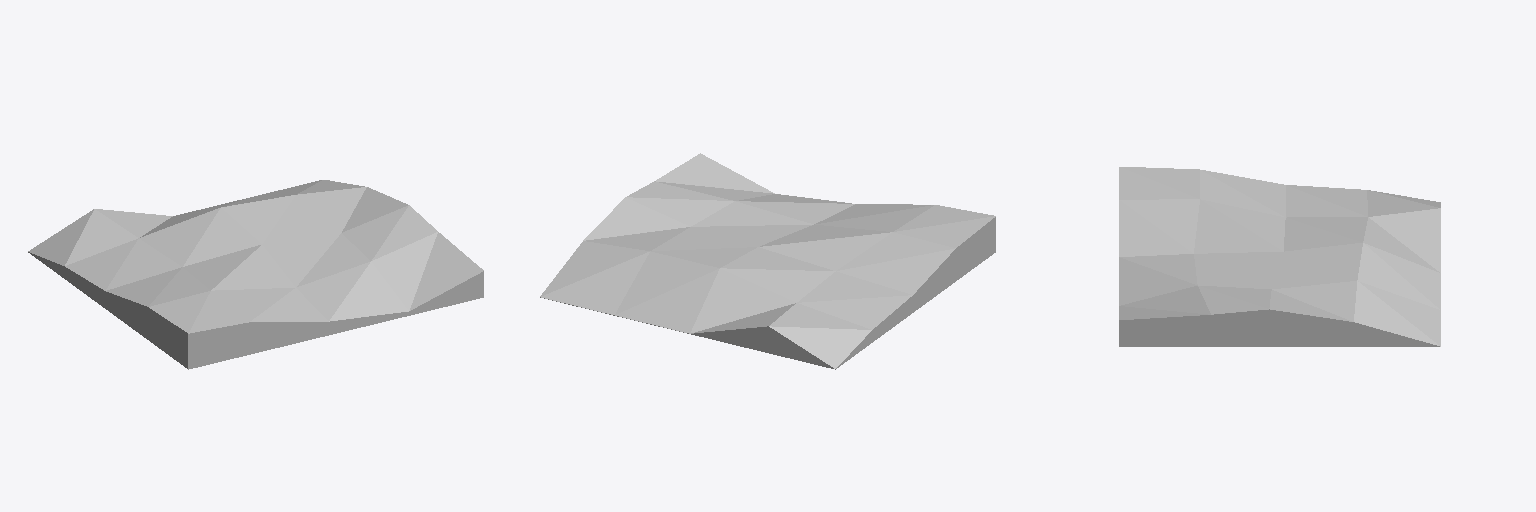
File: aqua_bottom.obj
3 views of the same model, side by side, from view 1: azimuth 30°, elevation 25°; view 2: azimuth 150°, elevation 25°; view 3: azimuth 270°, elevation 25° (orthographic).
Visible parts, largest first — view 1: aqua_bottom; view 2: aqua_bottom; view 3: aqua_bottom.
Part boxes in pixels (left/top/right/bottom): aqua_bottom: left=28, top=180, right=483, bottom=369; aqua_bottom: left=540, top=153, right=995, bottom=369; aqua_bottom: left=1119, top=167, right=1440, bottom=346.
Bounding box in the file's own units: 4.42 × 0.5354 × 4.16.